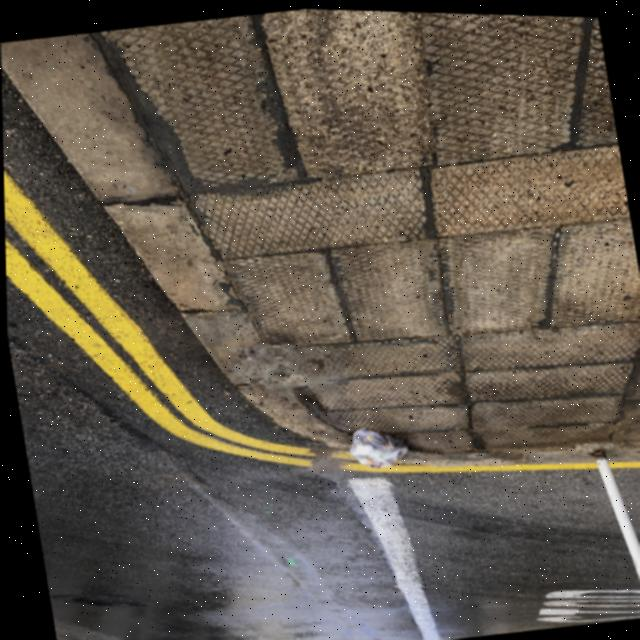Organic Waste -White Bag-: (340, 416, 415, 472)
